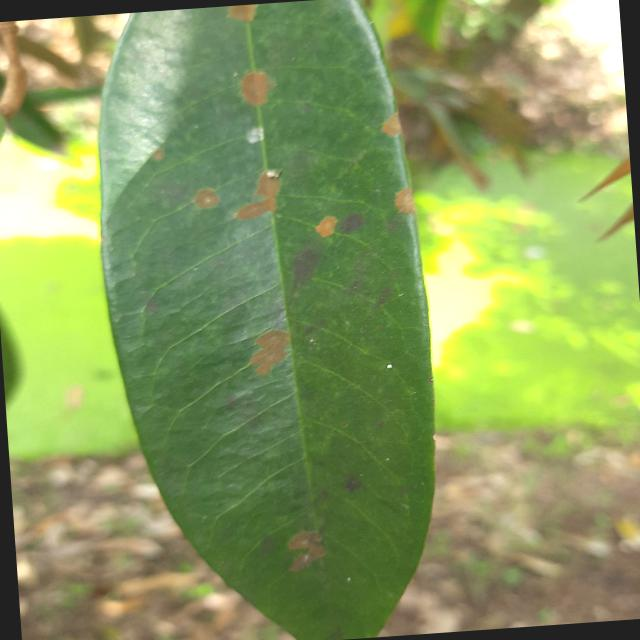Algal Leaf Spot: (73, 0, 462, 639)
